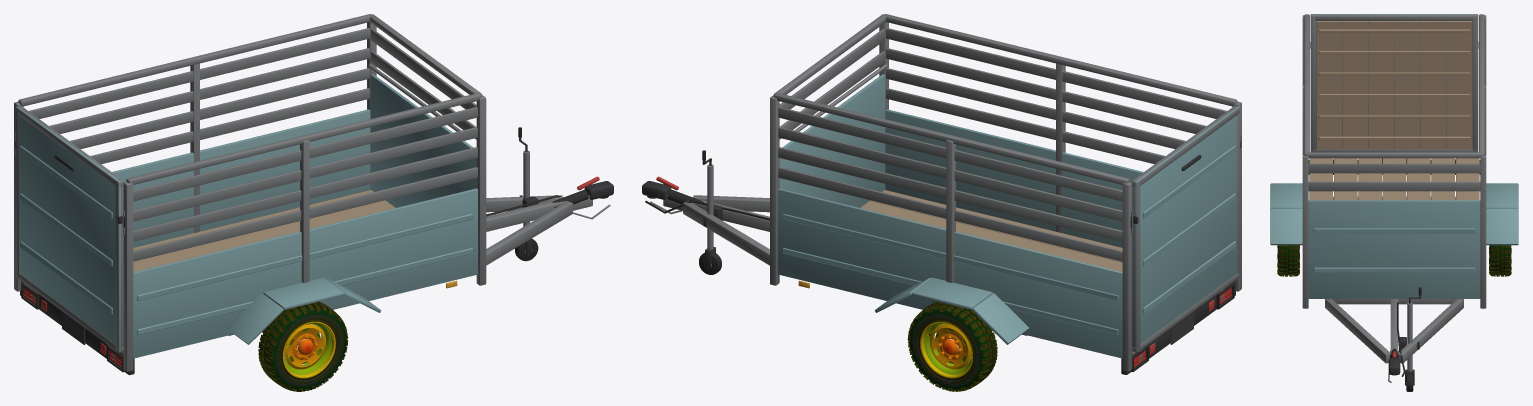
File: livestock.glb
The picture shows the model from 3 angles, left to right: view 1: azimuth 30°, elevation 25°; view 2: azimuth 150°, elevation 25°; view 3: azimuth 270°, elevation 25°; orthographic projection. The views are drawn at different scales.
Parts seen in each view (by area): view 1: Trailer_Stock, Ramp, WheelStock_RR, Jockey; view 2: Trailer_Stock, Ramp, WheelStock_RL, Jockey; view 3: Trailer_Stock, Ramp, WheelStock_RL, WheelStock_RR, Jockey.
Part boxes in pixels (x1=…): Trailer_Stock: x1=14, y1=14, x2=613, y2=375; Ramp: x1=15, y1=106, x2=124, y2=352; WheelStock_RR: x1=258, y1=301, x2=348, y2=391; Jockey: x1=515, y1=127, x2=538, y2=261; Trailer_Stock: x1=642, y1=14, x2=1241, y2=374; Ramp: x1=1131, y1=106, x2=1240, y2=352; WheelStock_RL: x1=907, y1=301, x2=997, y2=391; Jockey: x1=699, y1=150, x2=721, y2=274; Trailer_Stock: x1=1270, y1=14, x2=1518, y2=382; Ramp: x1=1310, y1=14, x2=1478, y2=152; WheelStock_RL: x1=1489, y1=245, x2=1511, y2=276; WheelStock_RR: x1=1277, y1=245, x2=1299, y2=276; Jockey: x1=1405, y1=287, x2=1421, y2=391.
Bounding box in the file's own units: 4.5 × 1.88 × 2.18.
